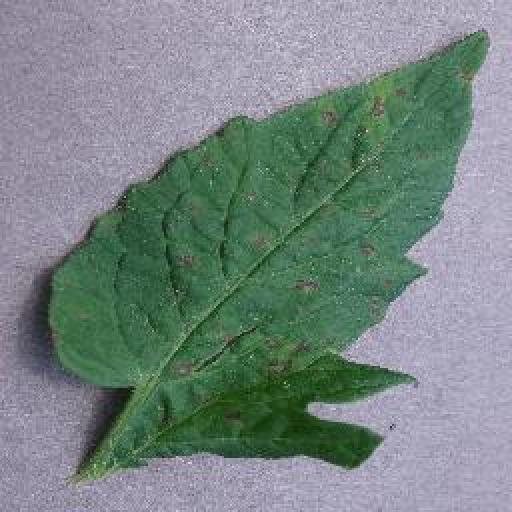Septoria: (49, 26, 491, 466)
